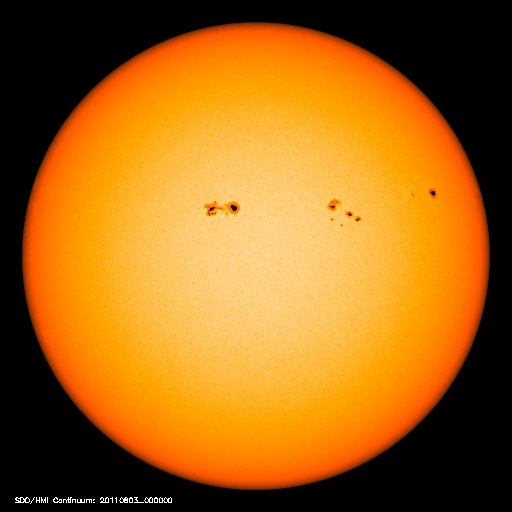sunspot: (320, 192, 368, 234), (194, 192, 246, 227), (404, 180, 445, 207)
